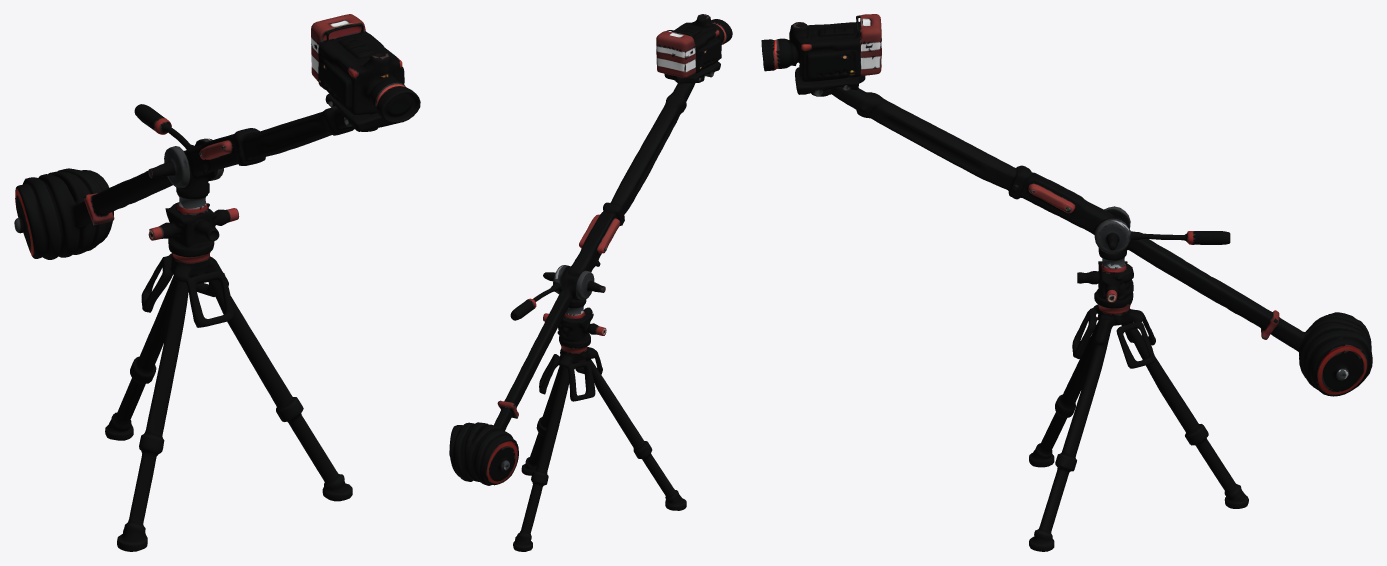
The model's file is CraneCamera_3p2m.glb.
3 renders of one model, left to right at view 1: azimuth 30°, elevation 25°; view 2: azimuth 150°, elevation 25°; view 3: azimuth 270°, elevation 25°, orthographic. The views are drawn at different scales.
Visible parts, largest first — view 1: SM_CraneCamera; view 2: SM_CraneCamera; view 3: SM_CraneCamera.
Part boxes in pixels (<box>): SM_CraneCamera: <box>14,14,420,551</box>; SM_CraneCamera: <box>449,14,732,551</box>; SM_CraneCamera: <box>761,14,1372,551</box>.
Size of the model in its own units: 1.35 by 3.2 by 3.66.
2 materials, 2 textured.
